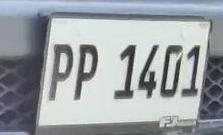0: (160, 37, 185, 101)
1: (109, 37, 138, 105)
2: (182, 43, 202, 95)
4: (137, 36, 163, 104)
P: (47, 39, 75, 106), (73, 39, 100, 107)
